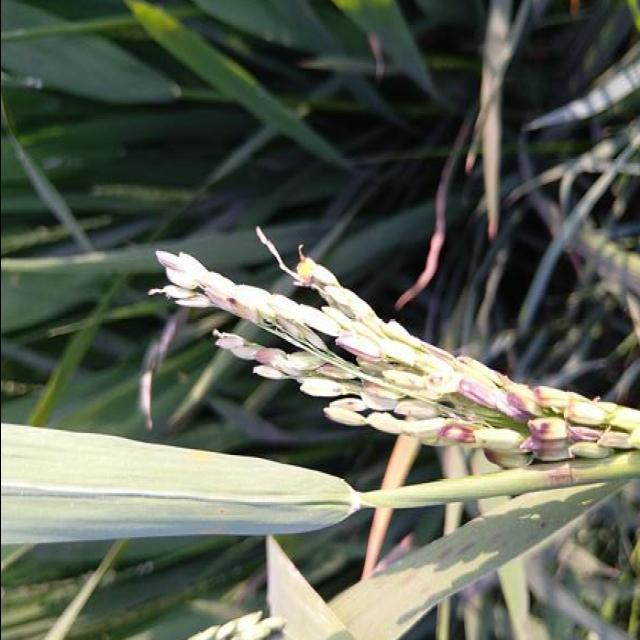Panicle Blight: (334, 332, 382, 363), (519, 436, 570, 461), (457, 377, 497, 408), (565, 399, 609, 427), (490, 398, 530, 424), (362, 380, 405, 401), (527, 417, 566, 440), (423, 342, 457, 368), (504, 390, 536, 417), (596, 429, 635, 451), (327, 393, 367, 412), (532, 385, 565, 407), (567, 423, 603, 443), (442, 424, 476, 445), (156, 250, 185, 273), (315, 364, 356, 380), (231, 301, 260, 323), (202, 289, 228, 310), (254, 348, 286, 364), (426, 371, 444, 388)
